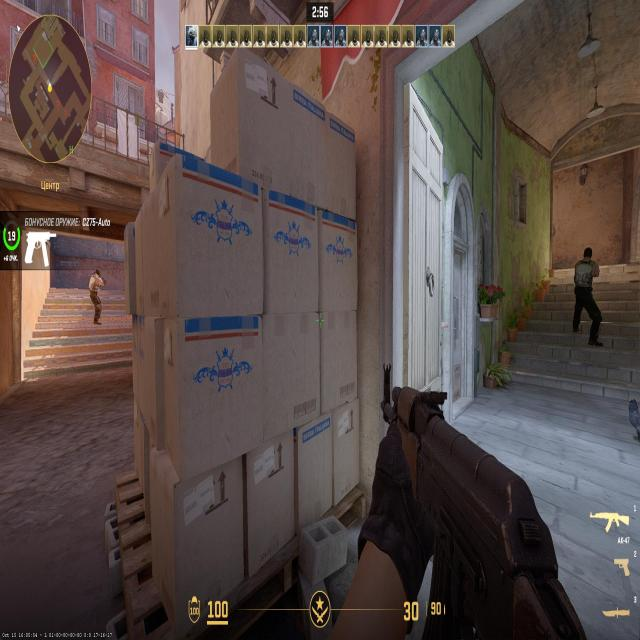T: (582, 248, 598, 338), (92, 266, 103, 324)
T_heat: (586, 252, 594, 262), (95, 267, 98, 282)
